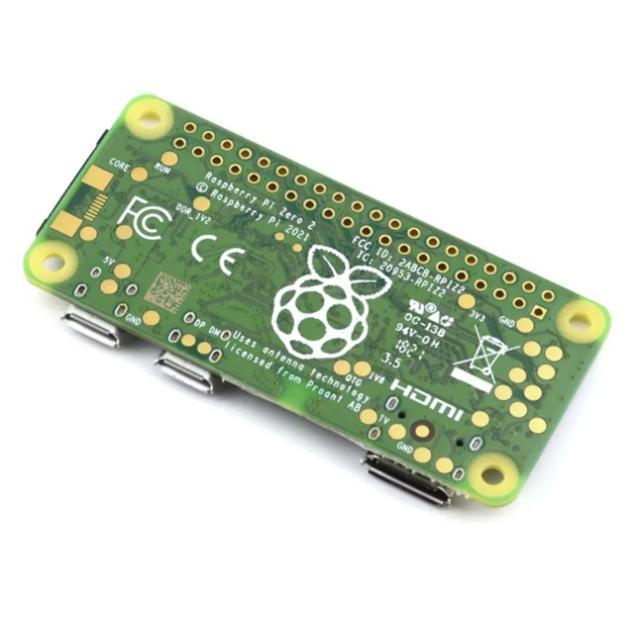Raspberry-Pi-Zero-2-W: (25, 97, 610, 507)
